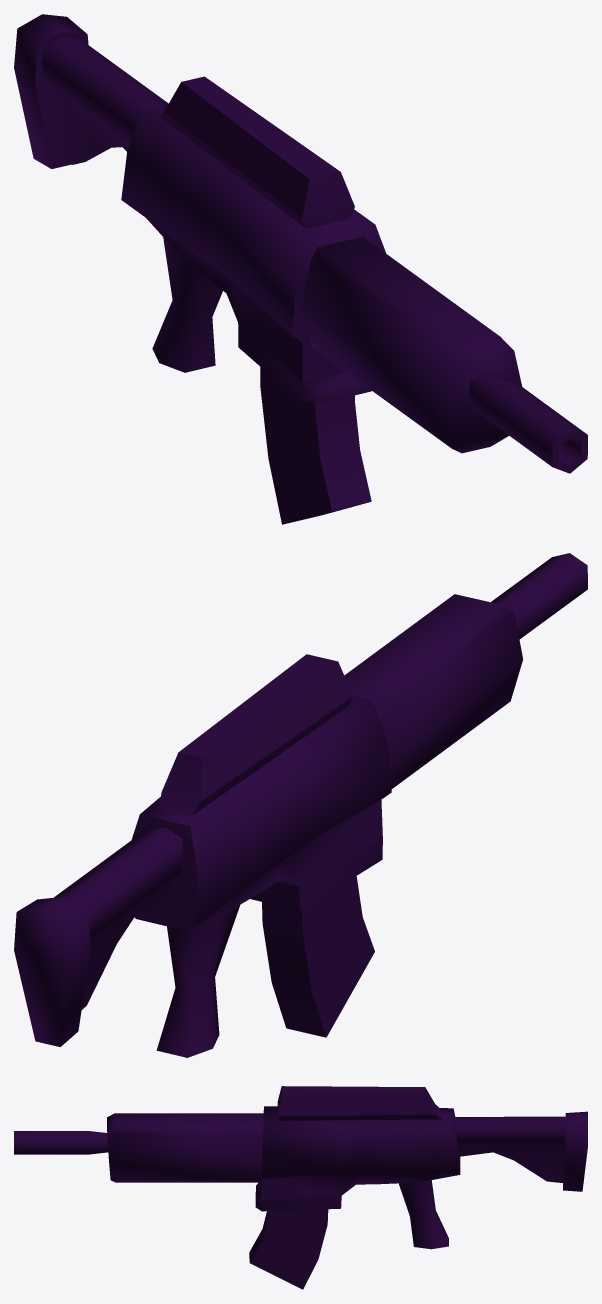
Rendered from IKWeaponRifle.fbx.
The picture shows the model from 3 angles, top to bottom: view 1: azimuth 30°, elevation 25°; view 2: azimuth 150°, elevation 25°; view 3: azimuth 270°, elevation 25°; orthographic projection. The views are drawn at different scales.
Parts seen in each view (by area): view 1: IKRifle; view 2: IKRifle; view 3: IKRifle.
Part boxes in pixels (x1,y1,x2,y2): IKRifle: (14, 14, 587, 524); IKRifle: (14, 553, 587, 1057); IKRifle: (14, 1086, 587, 1289).
Size of the model in its own units: 8.35 by 28.55 by 76.09.
